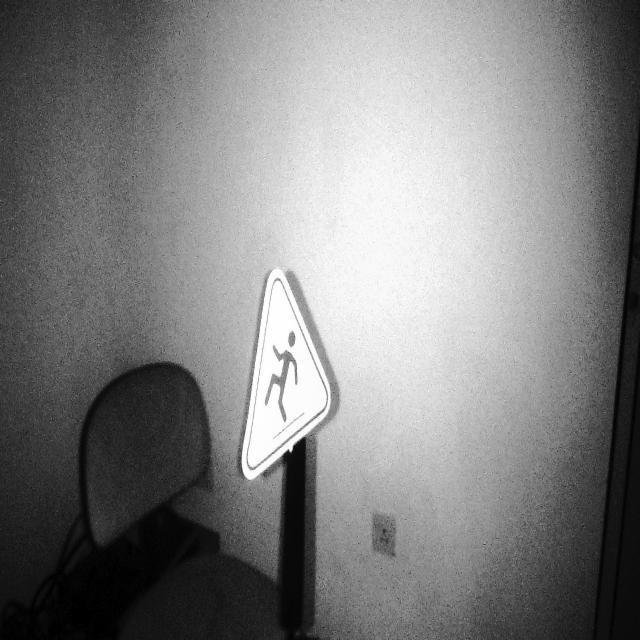Sign: (240, 267, 332, 483)
